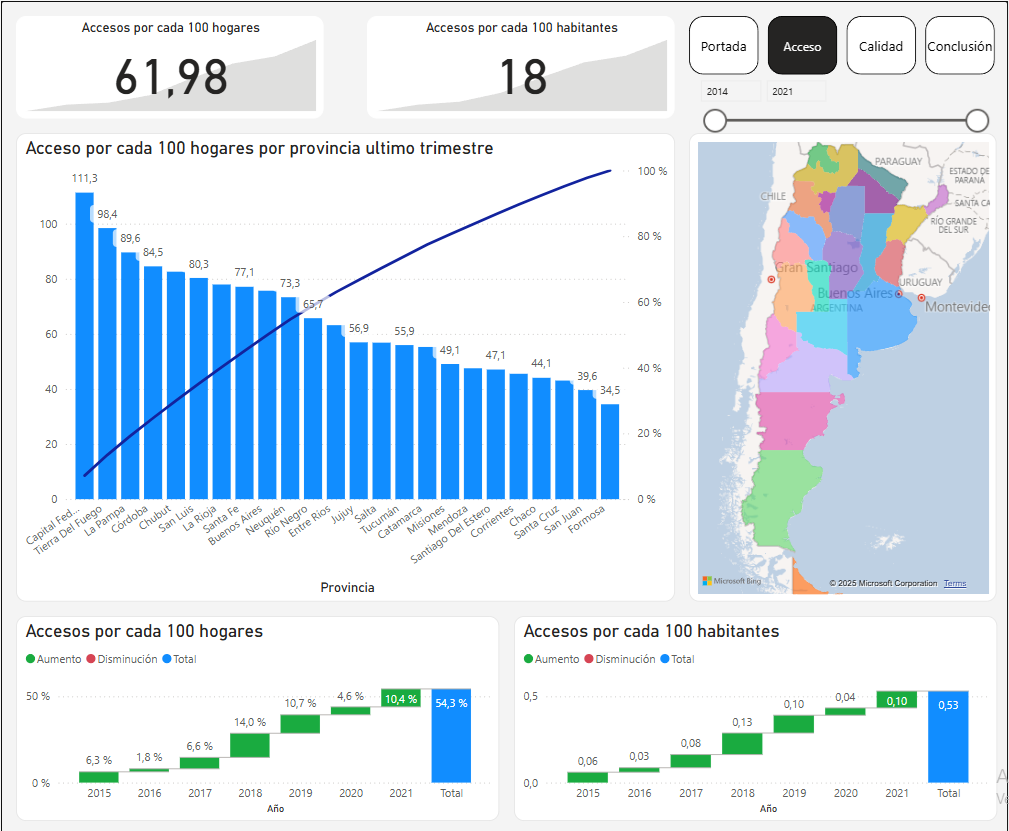

The page's visual inventory and layout, read from the dashboard file:
{"tool":"powerbi","page":{"name":"Acceso","canvas":[1100,910],"ordinal":1},"visuals":[{"type":"waterfallChart","title":"Accesos por cada 100 habitantes","fields":{"Category":["internet.Fecha.Variación.Jerarquía de fechas.Año"],"Y":["internet.Hab_aumento_%"]},"box":[560,672,528,224],"z":0},{"type":"filledMap","fields":{"Category":["dim_provincia.ProvinciaPais"],"Series":["dim_provincia.Provincia"]},"box":[752,144,336,512],"z":1000},{"type":"kpi","title":"Accesos por cada 100 habitantes","fields":{"Indicator":["Avg(internet.Accesos por cada 100 hab)"],"TrendLine":["internet.Año"]},"box":[400,16,336,112],"z":2000},{"type":"kpi","title":"Accesos por cada 100 hogares","fields":{"Indicator":["Avg(internet.Accesos por cada 100 hogares)"],"TrendLine":["internet.Año"]},"box":[16,16,336,112],"z":3000},{"type":"slicer","fields":{"Values":["internet.Año"]},"box":[752,80,336,80],"z":4000},{"type":"pageNavigator","box":[752,16,336,64],"z":5000},{"type":"lineClusteredColumnComboChart","title":"Acceso por cada 100 hogares por provincia ultimo trimestre","fields":{"Category":["internet.Provincia"],"Y":["internet.Hab_total"],"Y2":["internet.Hab_tota_acum_porc"]},"box":[16,144,720,512],"z":6000},{"type":"waterfallChart","title":"Accesos por cada 100 hogares","fields":{"Category":["internet.Fecha.Variación.Jerarquía de fechas.Año"],"Y":["internet.Hogar_aumento_%"]},"box":[16,672,528,224],"z":7000}]}

Visuals, with their boxes in screenshot pixels (x1, y1, x2, y2), scaled from the page's 1100x910 canvas onto the 1009x831 screenshot:
"Accesos por cada 100 habitantes" waterfallChart: [514,614,998,818]
filledMap - dim_provincia.ProvinciaPais x dim_provincia.Provincia: [690,131,998,599]
"Accesos por cada 100 habitantes" kpi: [367,15,675,117]
"Accesos por cada 100 hogares" kpi: [15,15,323,117]
slicer - internet.Año: [690,73,998,146]
pageNavigator: [690,15,998,73]
"Acceso por cada 100 hogares por provincia ultimo trimestre" lineClusteredColumnComboChart: [15,131,675,599]
"Accesos por cada 100 hogares" waterfallChart: [15,614,499,818]
